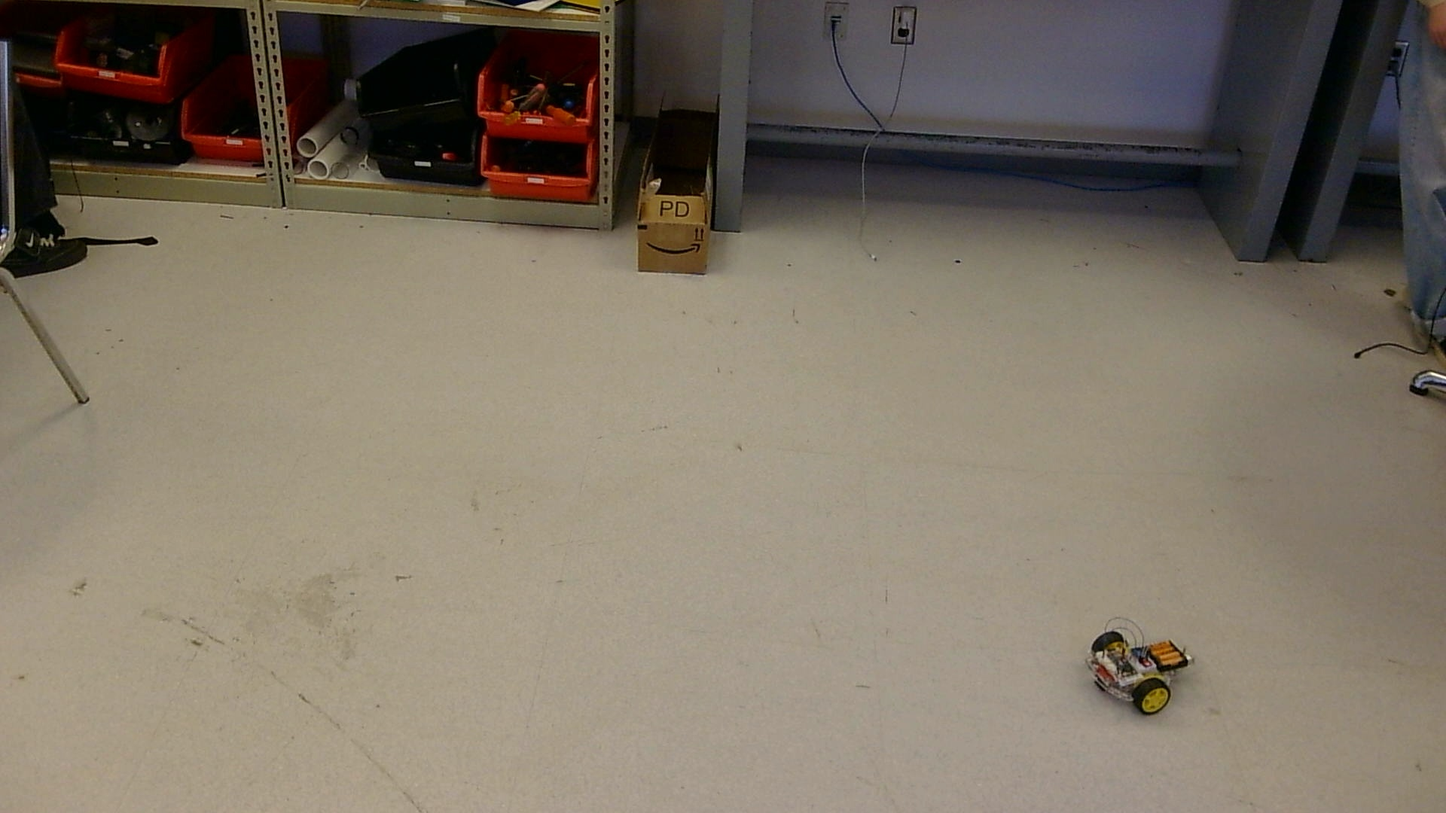robot: (1085, 619, 1193, 715)
